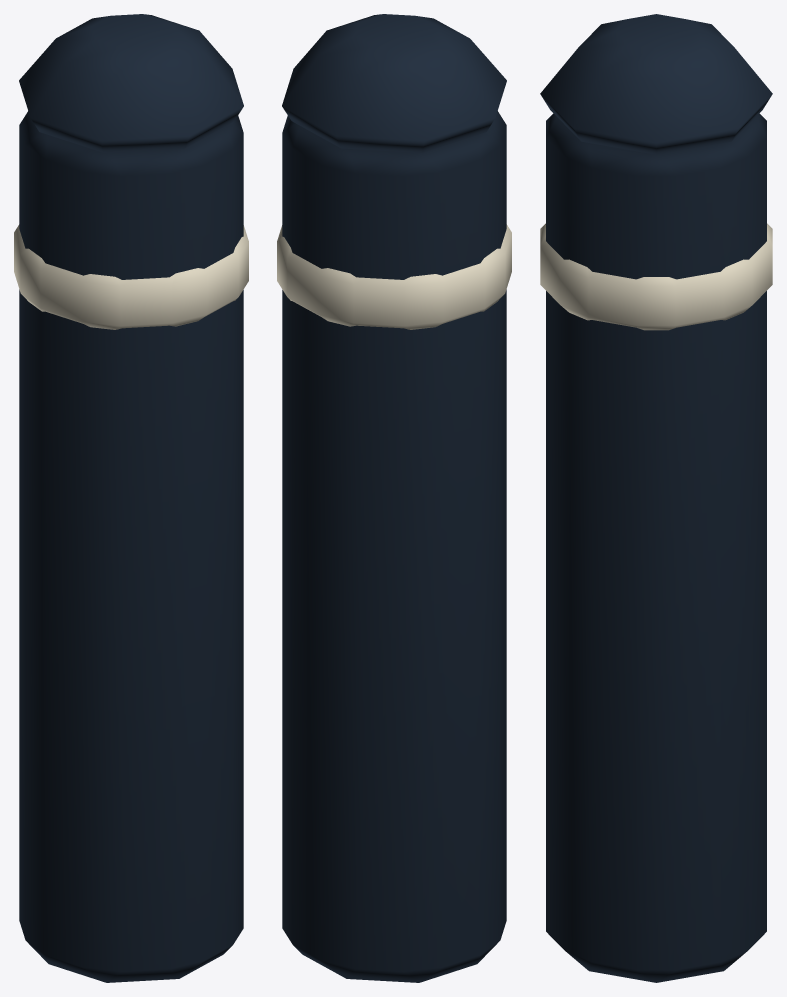
File: bollard.glb
The picture shows the model from 3 angles, left to right: view 1: azimuth 30°, elevation 25°; view 2: azimuth 150°, elevation 25°; view 3: azimuth 270°, elevation 25°; orthographic projection.
Visible parts, largest first — view 1: Body; view 2: Body; view 3: Body.
Boxes of the visible parts, x1,y1,x2,y2 form: Body: (14,14,248,982); Body: (277,14,511,982); Body: (540,14,772,982).
Bounding box in the file's own units: 0.2153 × 0.93 × 0.2153.
1 material, 1 textured.
